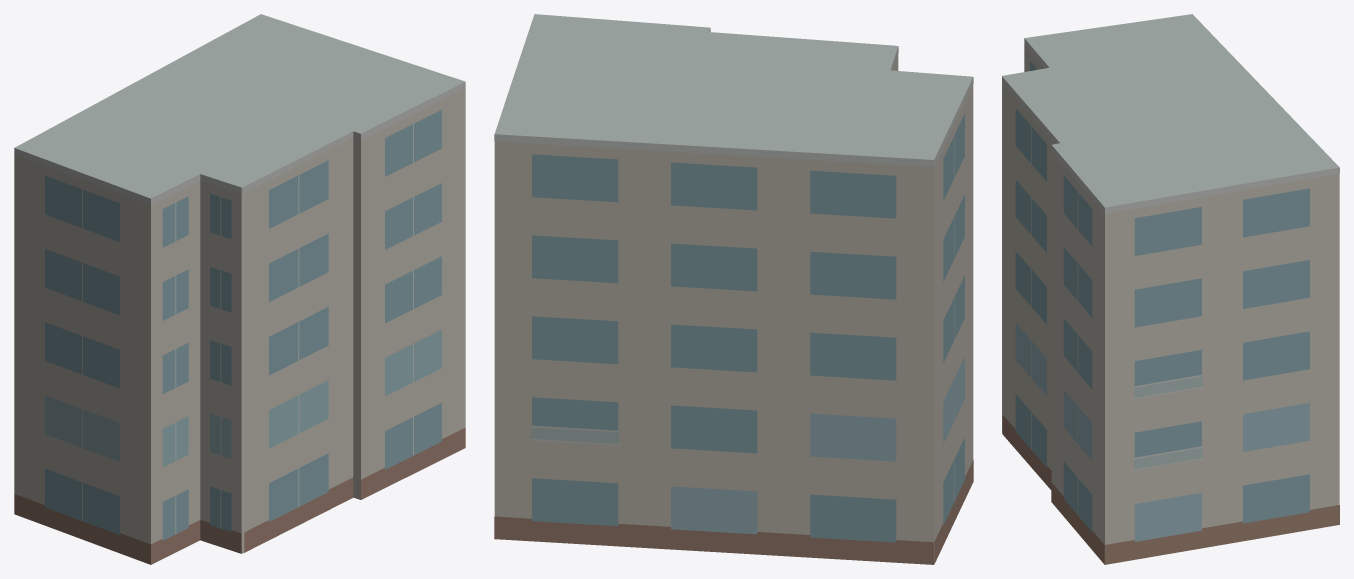
The model's file is survey-upis-32856657.glb.
The picture shows the model from 3 angles, left to right: view 1: azimuth 30°, elevation 25°; view 2: azimuth 150°, elevation 25°; view 3: azimuth 270°, elevation 25°; orthographic projection. The views are drawn at different scales.
Visible parts, largest first — view 1: survey-upis-32856657.tmp; view 2: survey-upis-32856657.tmp; view 3: survey-upis-32856657.tmp.
Boxes of the visible parts, x1,y1,x2,y2 form: survey-upis-32856657.tmp: [14, 14, 465, 564]; survey-upis-32856657.tmp: [494, 14, 973, 564]; survey-upis-32856657.tmp: [1002, 14, 1339, 564].
Bounding box in the file's own units: 16.1 × 13.85 × 11.87.
